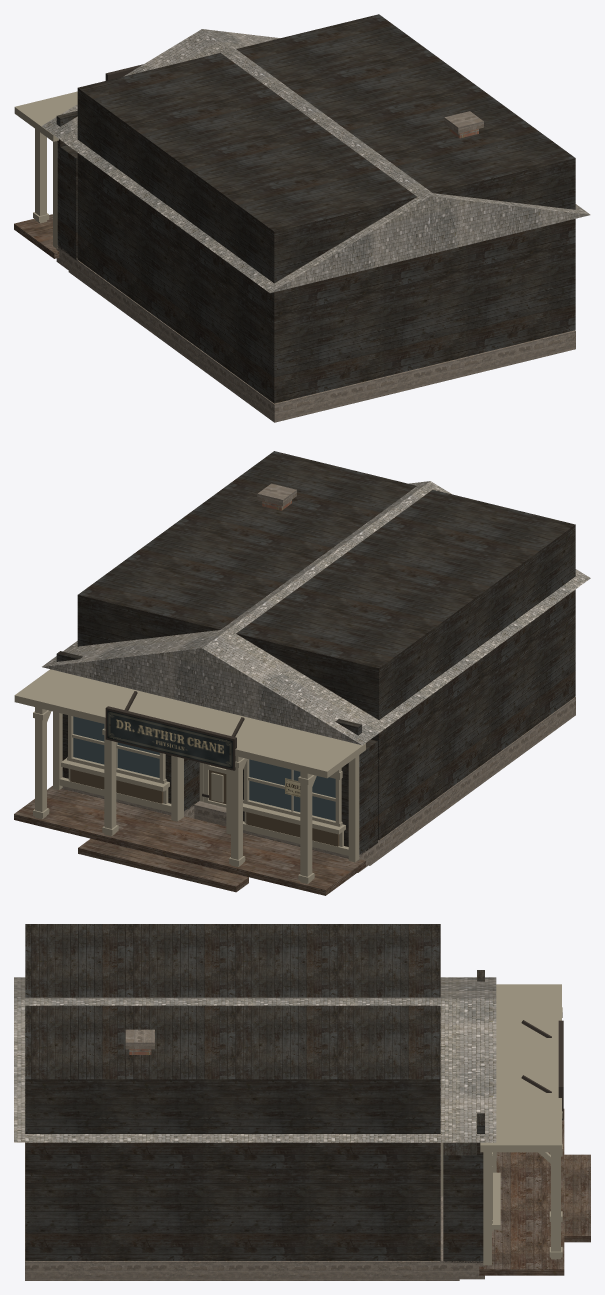
File: crane_clinic.glb
The picture shows the model from 3 angles, top to bottom: view 1: azimuth 30°, elevation 25°; view 2: azimuth 150°, elevation 25°; view 3: azimuth 270°, elevation 25°; orthographic projection. The views are drawn at different scales.
Visible parts, largest first — view 1: Photographic pine | grade and eave AO, Split slate, Rubble foundation, Trim crane_clinic, Photographic pine; view 2: Photographic pine | grade and eave AO, Trim crane_clinic, Split slate, Photographic pine, Rubble foundation, Cold cylinder glass, Print_clinic_physician, Door crane_clinic, Patinated cast iron; view 3: Photographic pine | grade and eave AO, Split slate, Trim crane_clinic, Rubble foundation, Photographic pine, Patinated cast iron.
Boxes of the visible parts, x1,y1,x2,y2 form: Photographic pine | grade and eave AO: (56, 14, 575, 403); Split slate: (42, 29, 590, 293); Rubble foundation: (56, 111, 575, 422); Trim crane_clinic: (14, 91, 77, 248); Photographic pine: (14, 214, 59, 258); Photographic pine | grade and eave AO: (56, 451, 575, 854); Trim crane_clinic: (14, 669, 365, 883); Split slate: (42, 481, 590, 745); Photographic pine: (14, 786, 365, 895); Rubble foundation: (61, 483, 575, 872); Cold cylinder glass: (73, 716, 335, 820); Print_clinic_physician: (107, 710, 232, 768); Door crane_clinic: (70, 765, 339, 846); Patinated cast iron: (105, 691, 244, 770); Photographic pine | grade and eave AO: (25, 924, 484, 1262); Split slate: (14, 977, 496, 1142); Trim crane_clinic: (441, 984, 562, 1265); Rubble foundation: (25, 1029, 484, 1280); Photographic pine: (479, 1109, 590, 1275); Patinated cast iron: (521, 1020, 563, 1120).
Bounding box in the file's own units: 8.52 × 5.17 × 12.56.
12 materials, 6 textured.
